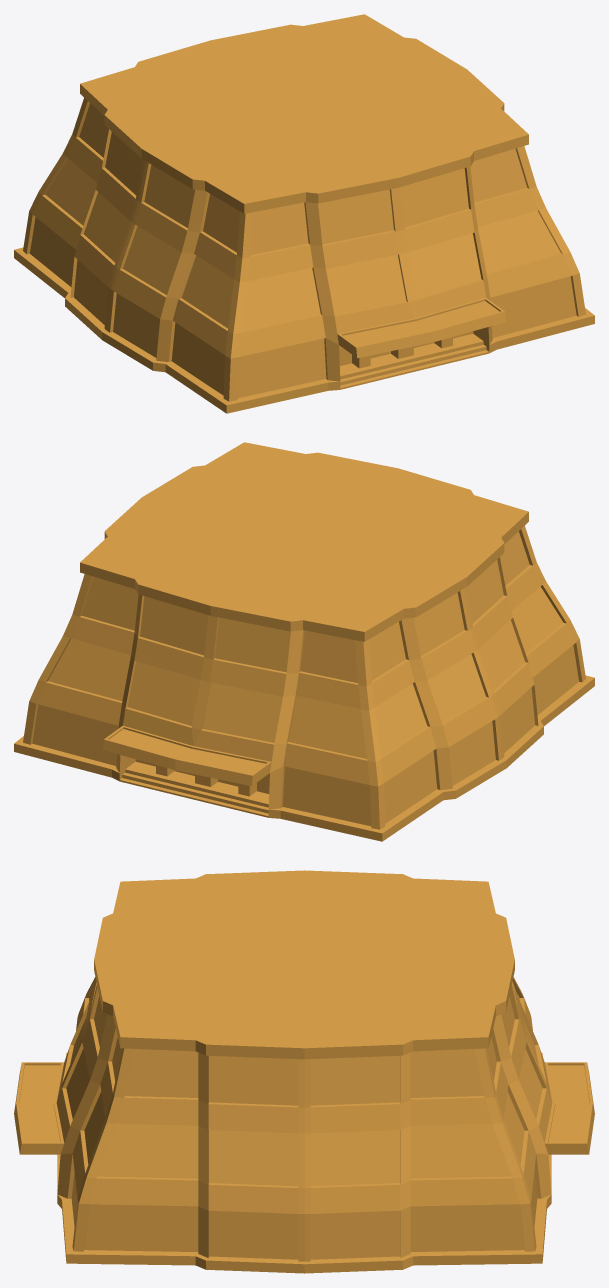
Rendered from skyscraper2-part-bottom.fbx.
The picture shows the model from 3 angles, top to bottom: view 1: azimuth 30°, elevation 25°; view 2: azimuth 150°, elevation 25°; view 3: azimuth 270°, elevation 25°; orthographic projection. The views are drawn at different scales.
Parts seen in each view (by area): view 1: skyscraper2-part-bottom; view 2: skyscraper2-part-bottom; view 3: skyscraper2-part-bottom.
Part boxes in pixels (bbox=[...]): skyscraper2-part-bottom: bbox=[14, 14, 594, 413]; skyscraper2-part-bottom: bbox=[14, 442, 594, 841]; skyscraper2-part-bottom: bbox=[14, 870, 594, 1273].
Size of the model in its own units: 25.6 by 11 by 28.45.
